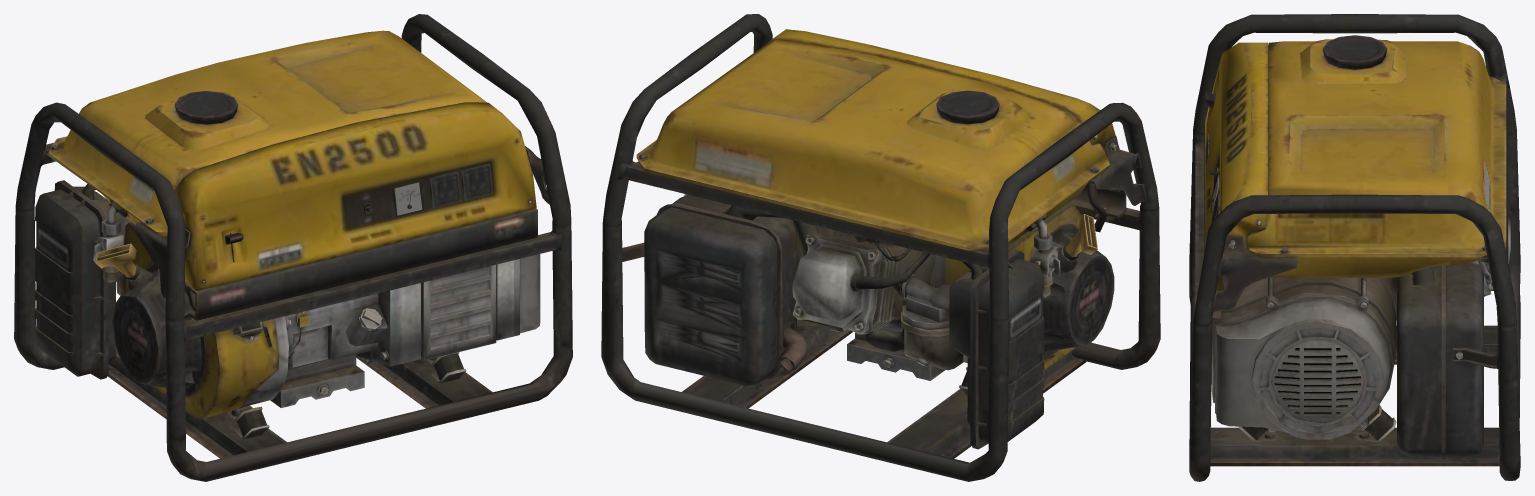
The model's file is portable_generator.glb.
The picture shows the model from 3 angles, left to right: view 1: azimuth 30°, elevation 25°; view 2: azimuth 150°, elevation 25°; view 3: azimuth 270°, elevation 25°; orthographic projection.
Parts seen in each view (by area): view 1: portable_generator; view 2: portable_generator; view 3: portable_generator.
Part boxes in pixels (box(x1,y1,x2,y2)): portable_generator: box(14, 14, 572, 481); portable_generator: box(601, 14, 1160, 481); portable_generator: box(1189, 14, 1520, 481).
Size of the model in its own units: 0.8169 by 0.5752 by 0.564.
Materials: 2 (2 with a texture image).
